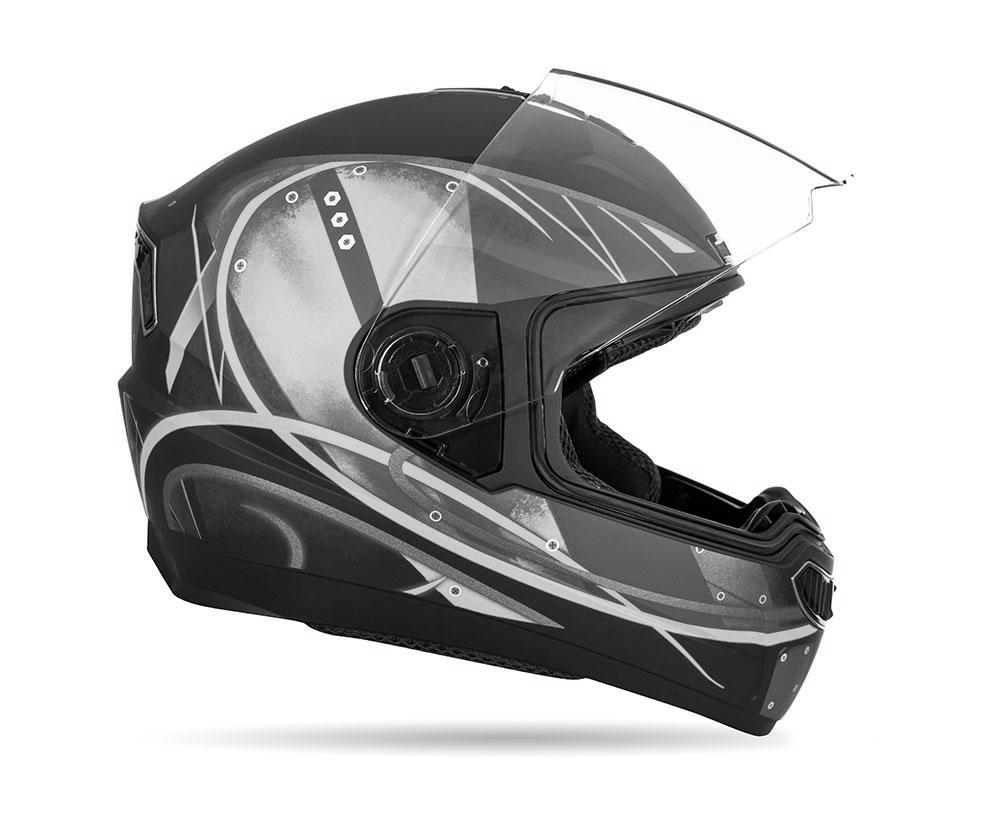Helmet: (116, 68, 849, 738)
